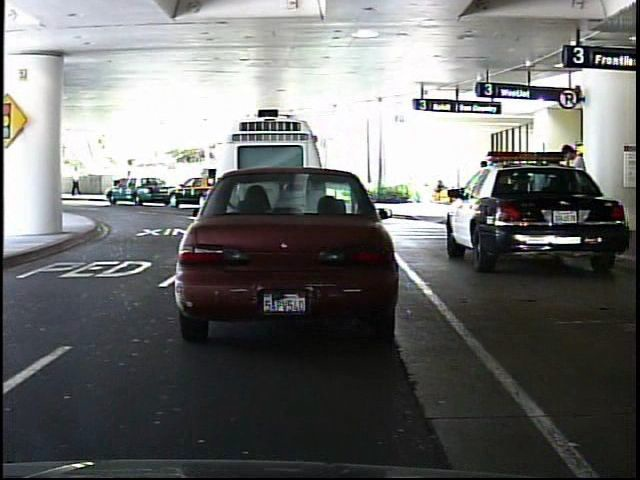person: (558, 137, 593, 241), (121, 167, 139, 200), (71, 162, 84, 197)
